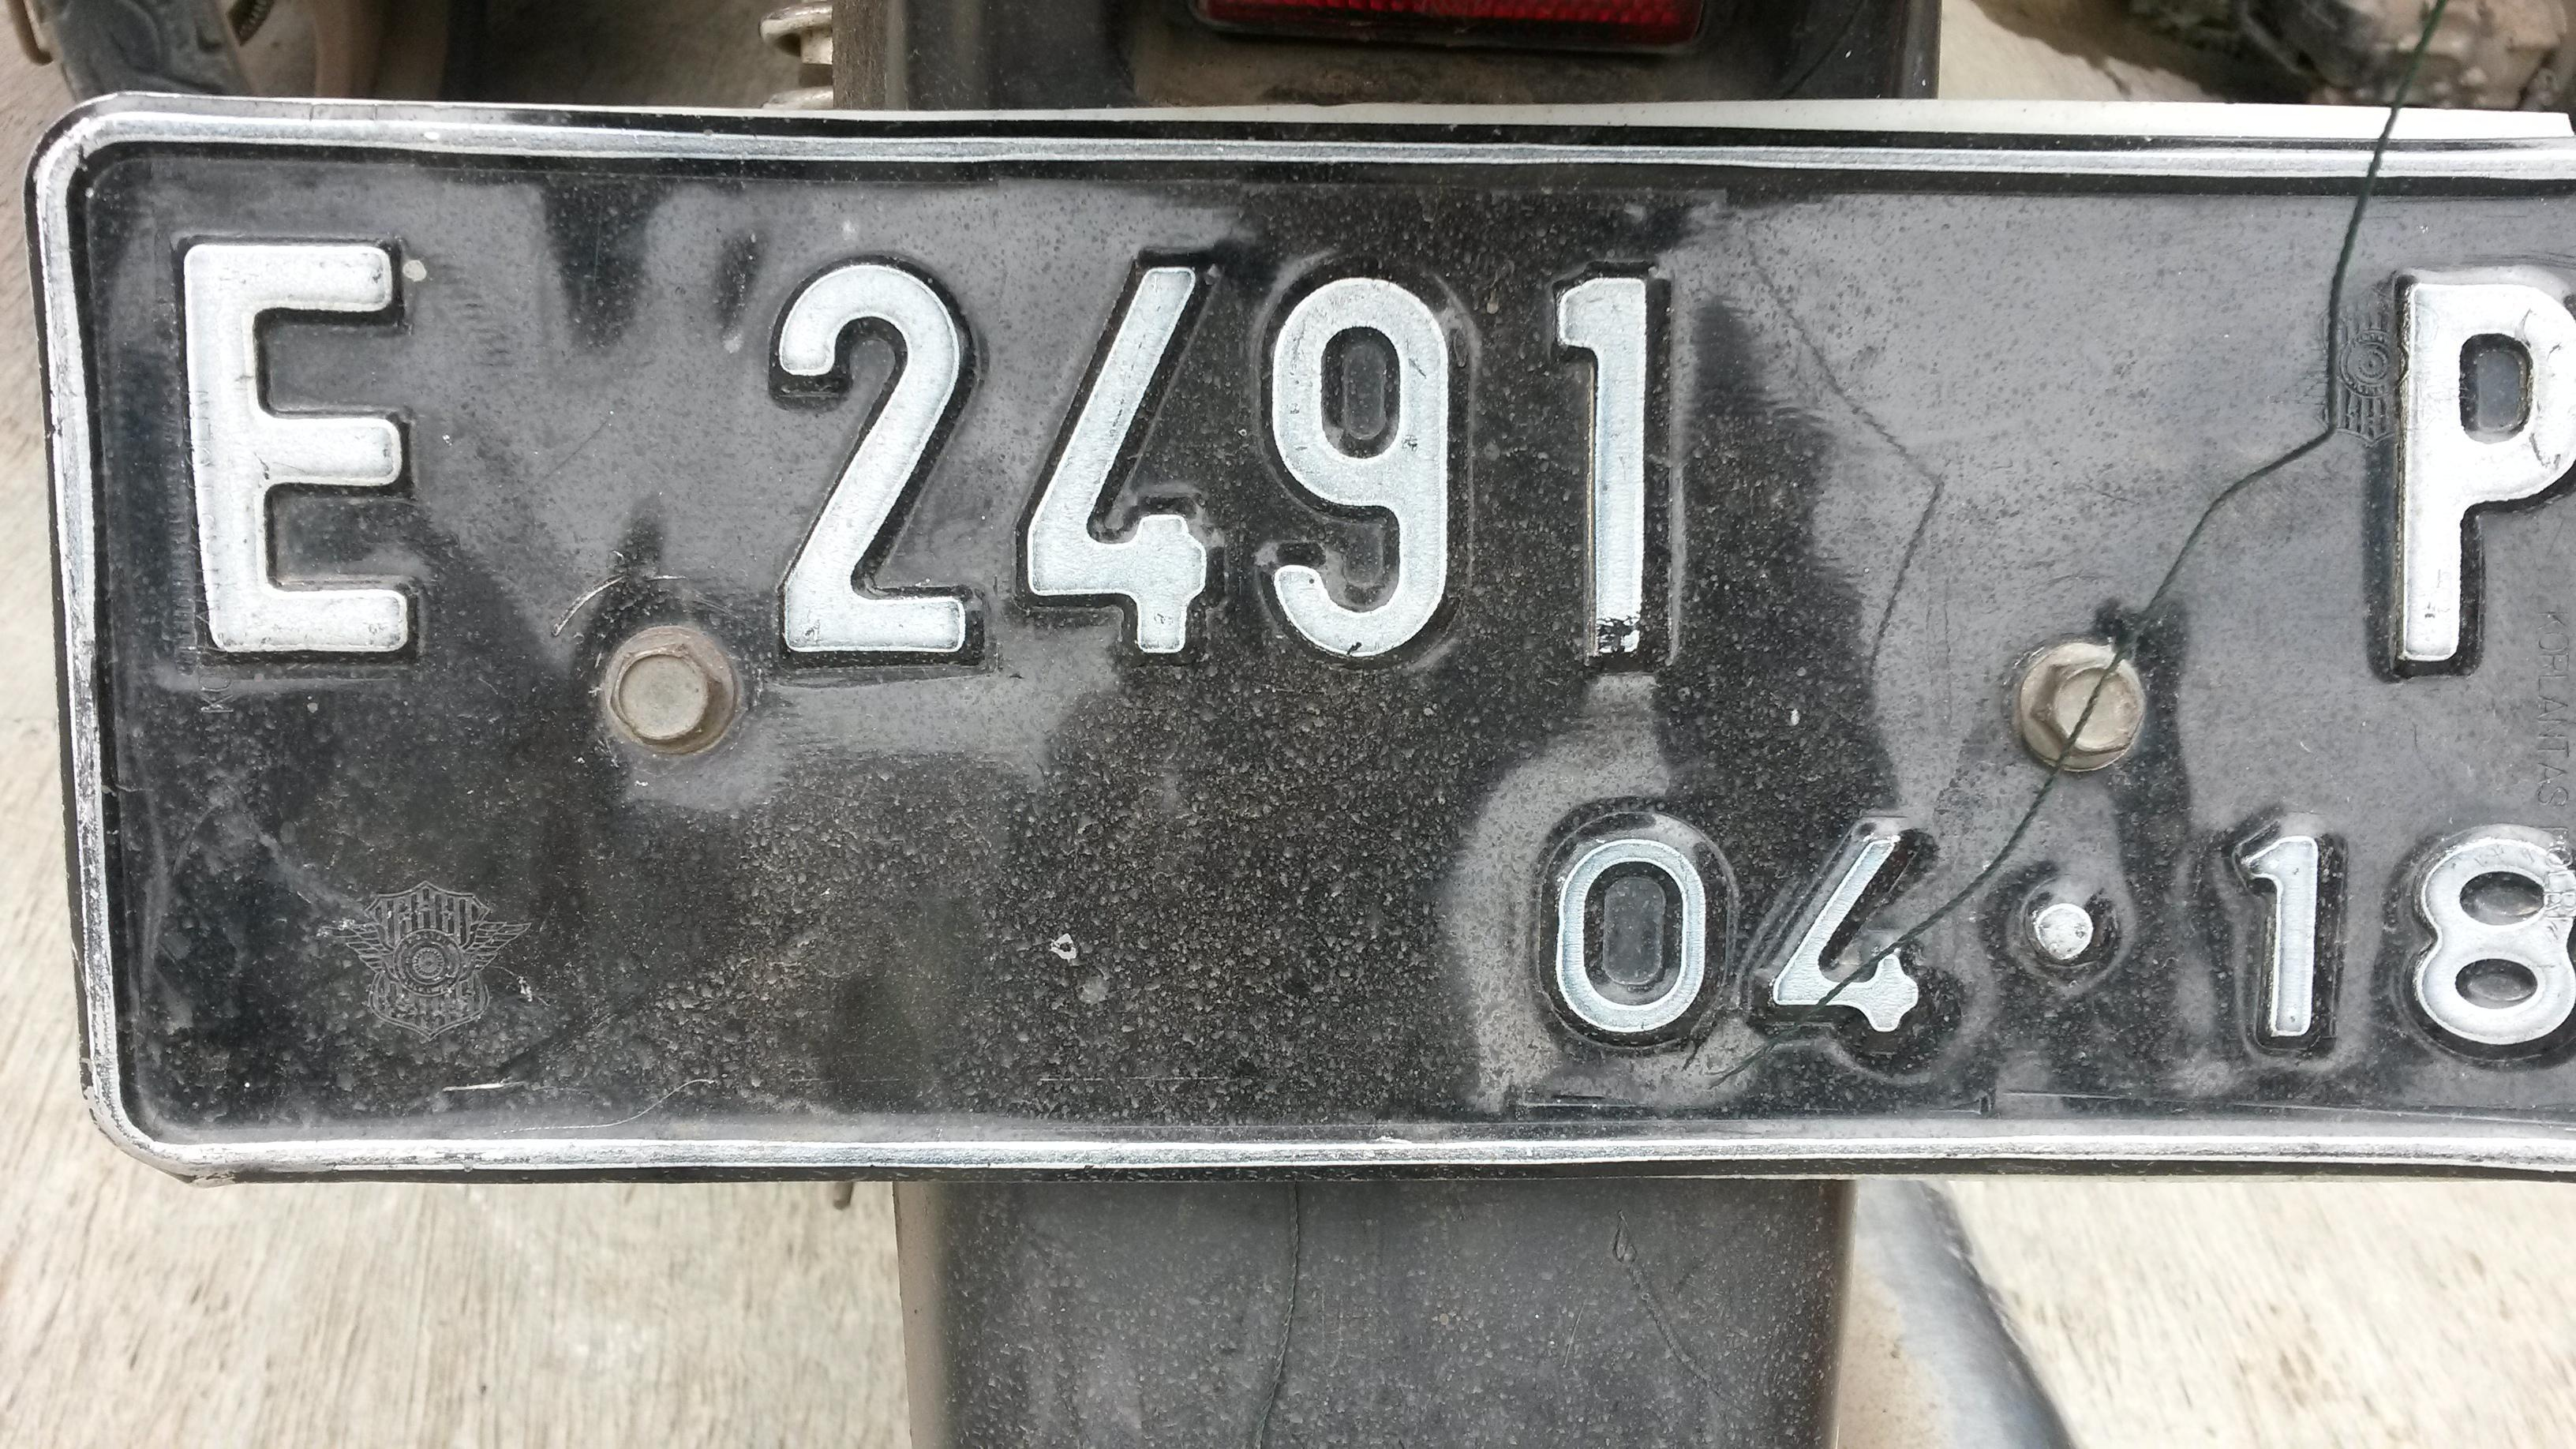1: (1534, 260, 1709, 718)
2: (717, 235, 1012, 678)
4: (991, 242, 1247, 686)
9: (1219, 262, 1474, 685)
E: (143, 182, 472, 713)
P: (2376, 260, 2576, 695)
